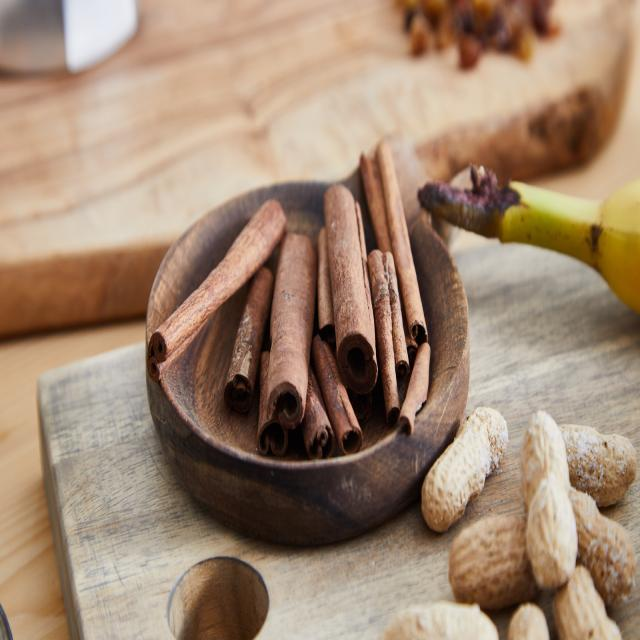Cinnamon: (148, 200, 286, 383), (324, 185, 378, 394), (376, 140, 428, 343), (266, 234, 318, 429), (224, 267, 274, 412), (311, 334, 362, 454), (368, 249, 400, 425), (382, 251, 410, 376), (360, 154, 391, 253)
